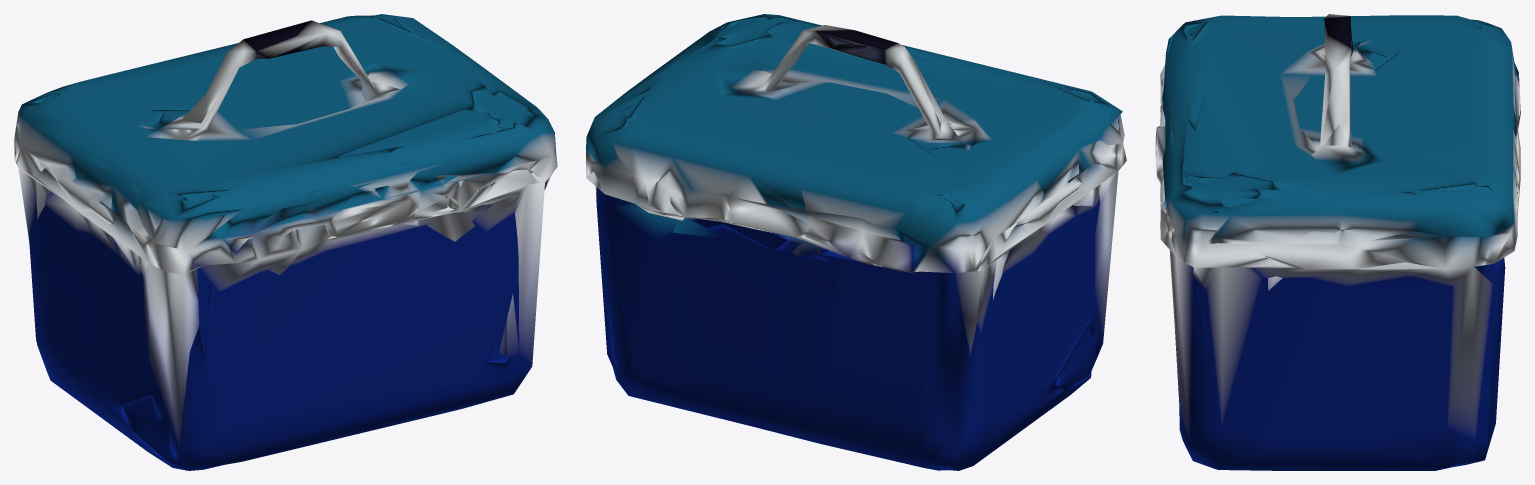
Rendered from gen3d-beach-cooler-lod0.glb.
3 views of the same model, side by side, from view 1: azimuth 30°, elevation 25°; view 2: azimuth 150°, elevation 25°; view 3: azimuth 270°, elevation 25° (orthographic).
Visible parts, largest first — view 1: part_0; view 2: part_0; view 3: part_0.
Boxes of the visible parts, left/top/right/bottom form: part_0: left=14, top=14, right=557, bottom=470; part_0: left=586, top=14, right=1126, bottom=470; part_0: left=1155, top=14, right=1520, bottom=470.
Bounding box in the file's own units: 1.17 × 0.9884 × 0.9048.
